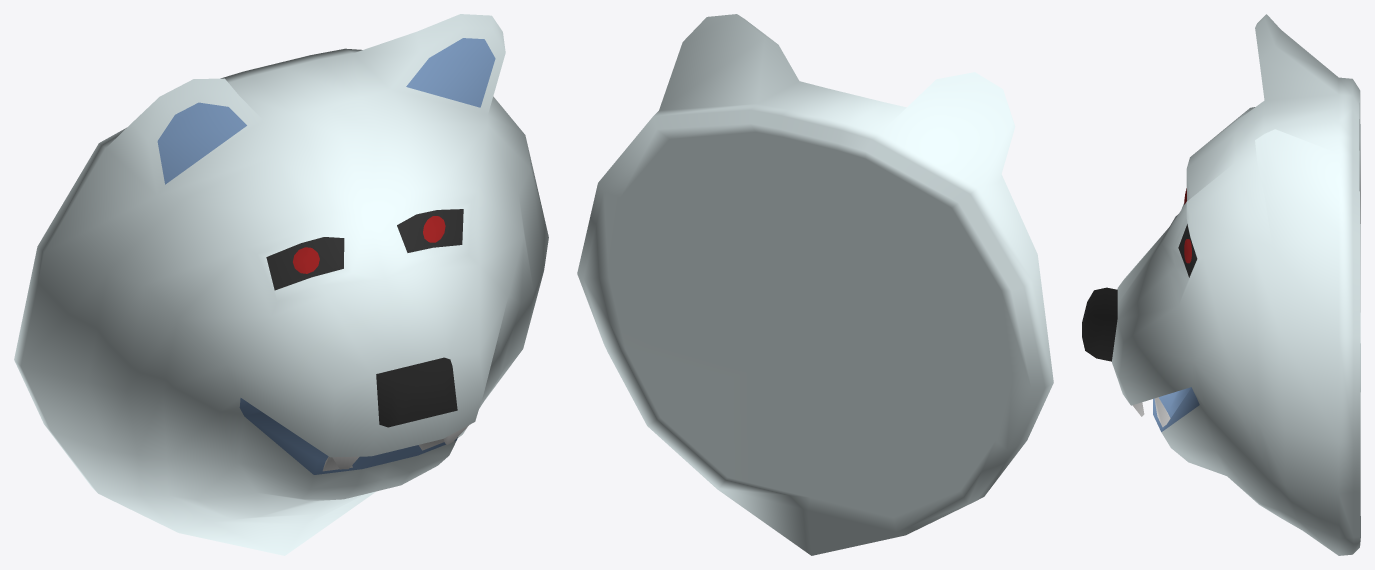
File: blue_bear.fbx
The picture shows the model from 3 angles, left to right: view 1: azimuth 30°, elevation 25°; view 2: azimuth 150°, elevation 25°; view 3: azimuth 270°, elevation 25°; orthographic projection. The views are drawn at different scales.
Visible parts, largest first — view 1: blue_bear; view 2: blue_bear; view 3: blue_bear.
Boxes of the visible parts, x1,y1,x2,y2 form: blue_bear: [14, 14, 548, 555]; blue_bear: [577, 14, 1053, 555]; blue_bear: [1082, 14, 1360, 555].
Size of the model in its own units: 0.4166 by 0.4073 by 0.2158.
